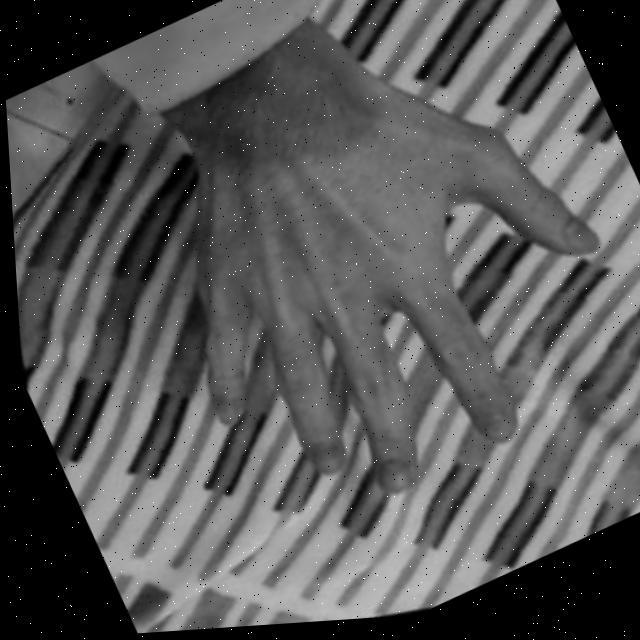no-gloves: (103, 12, 640, 566)
